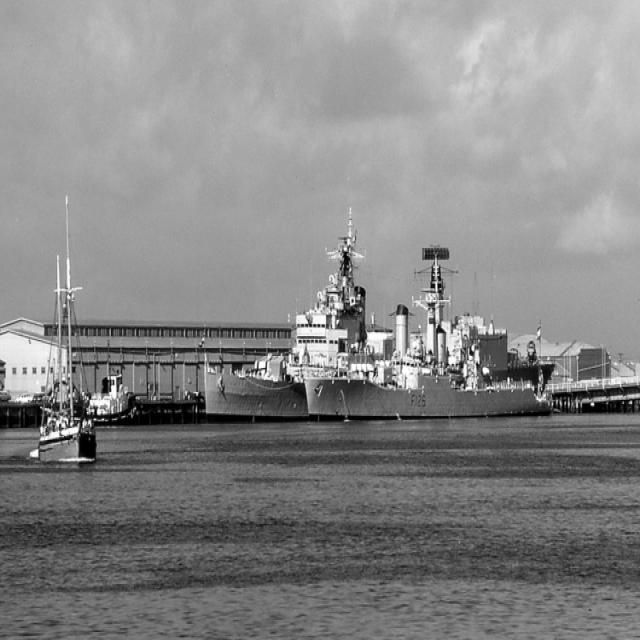Fragata: (301, 248, 559, 426)
